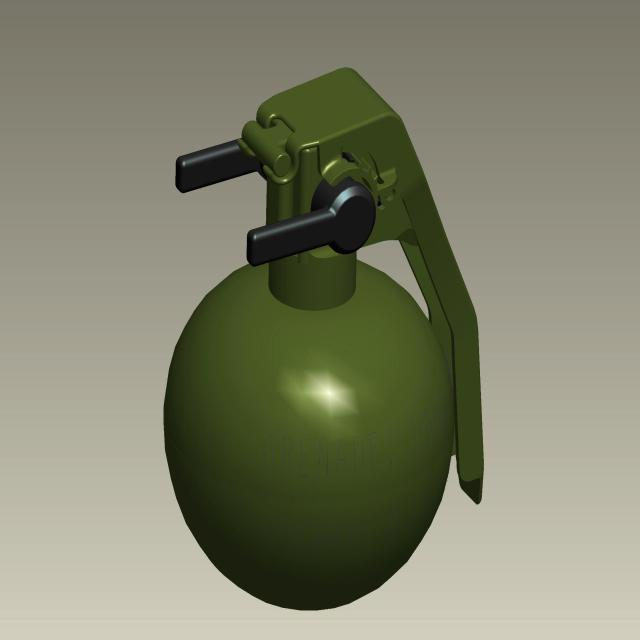grenade: (163, 68, 485, 613)
